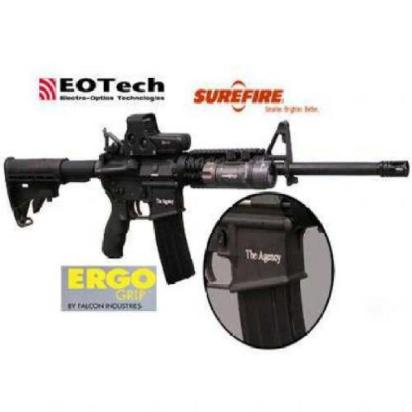Gun: (0, 103, 412, 252)
